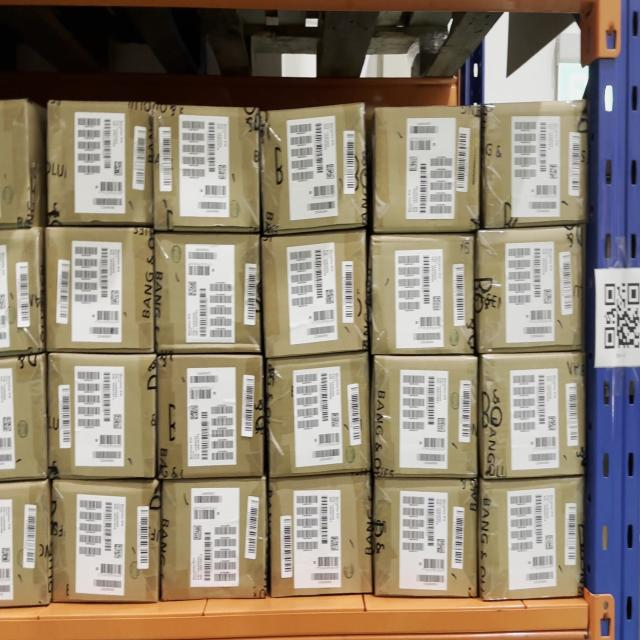box: (50, 354, 155, 478), (52, 484, 158, 606), (377, 106, 479, 232), (49, 100, 151, 226), (48, 231, 152, 351), (157, 109, 257, 226), (263, 114, 363, 228), (484, 234, 580, 350), (158, 237, 258, 348), (375, 238, 474, 350), (161, 359, 262, 468), (272, 480, 371, 591), (378, 361, 475, 473), (490, 107, 586, 220), (266, 240, 362, 351), (488, 358, 582, 470), (377, 486, 475, 593), (167, 488, 263, 596), (272, 367, 366, 474), (490, 485, 580, 591)
